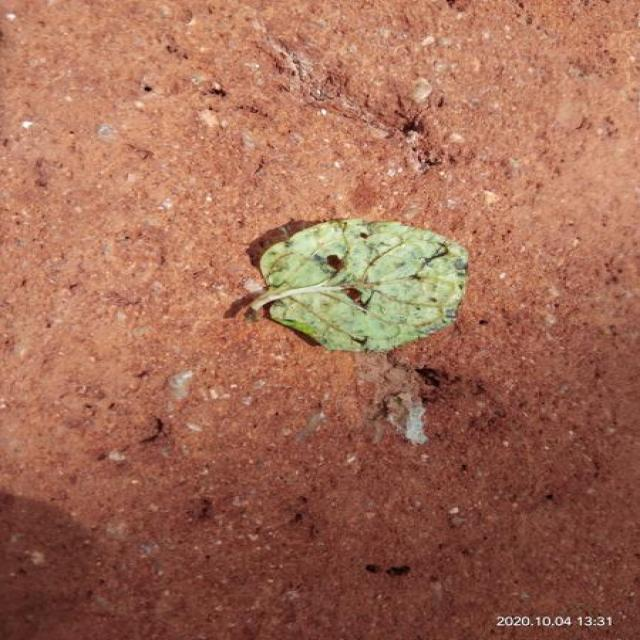mint: (250, 219, 468, 351)
